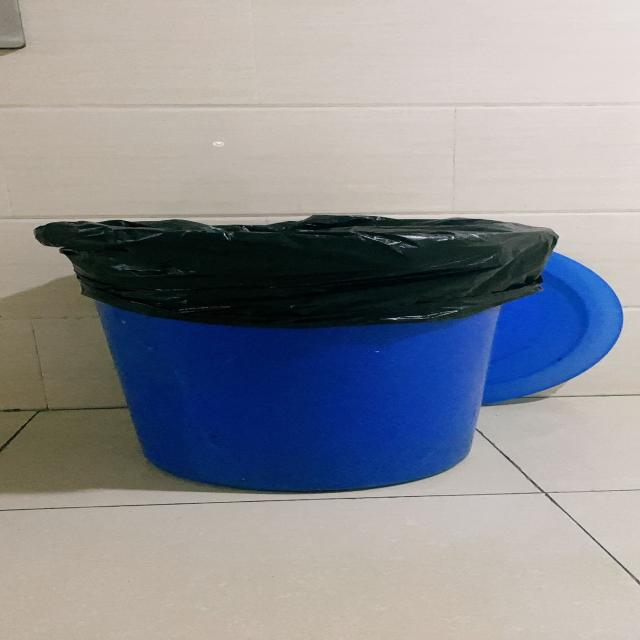garbage_bin: (32, 215, 557, 492)
